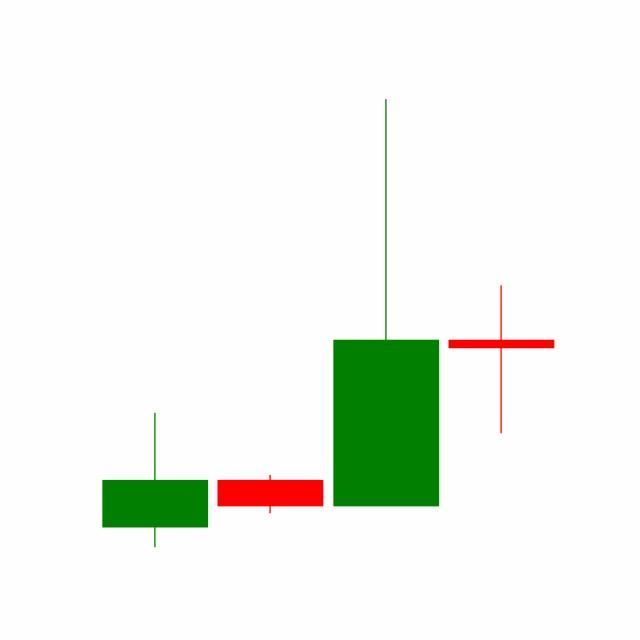Spinning Top: (444, 284, 560, 435)
